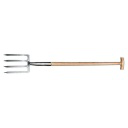fork: (4, 42, 128, 78)
